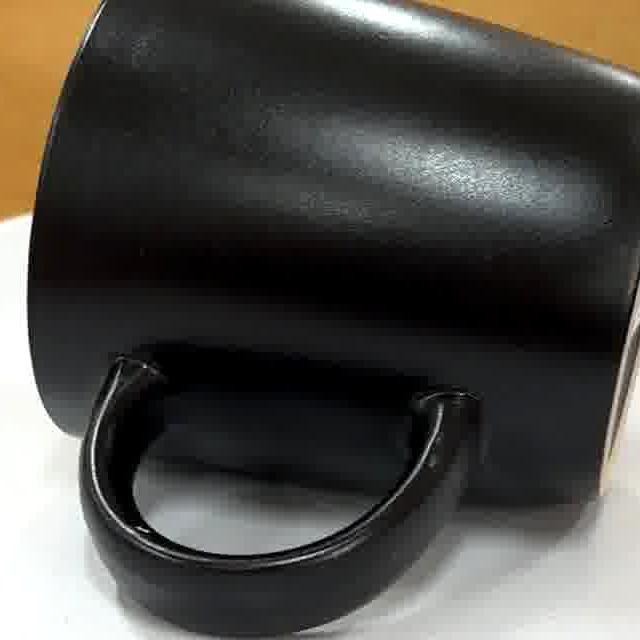cup: (28, 0, 640, 639)
